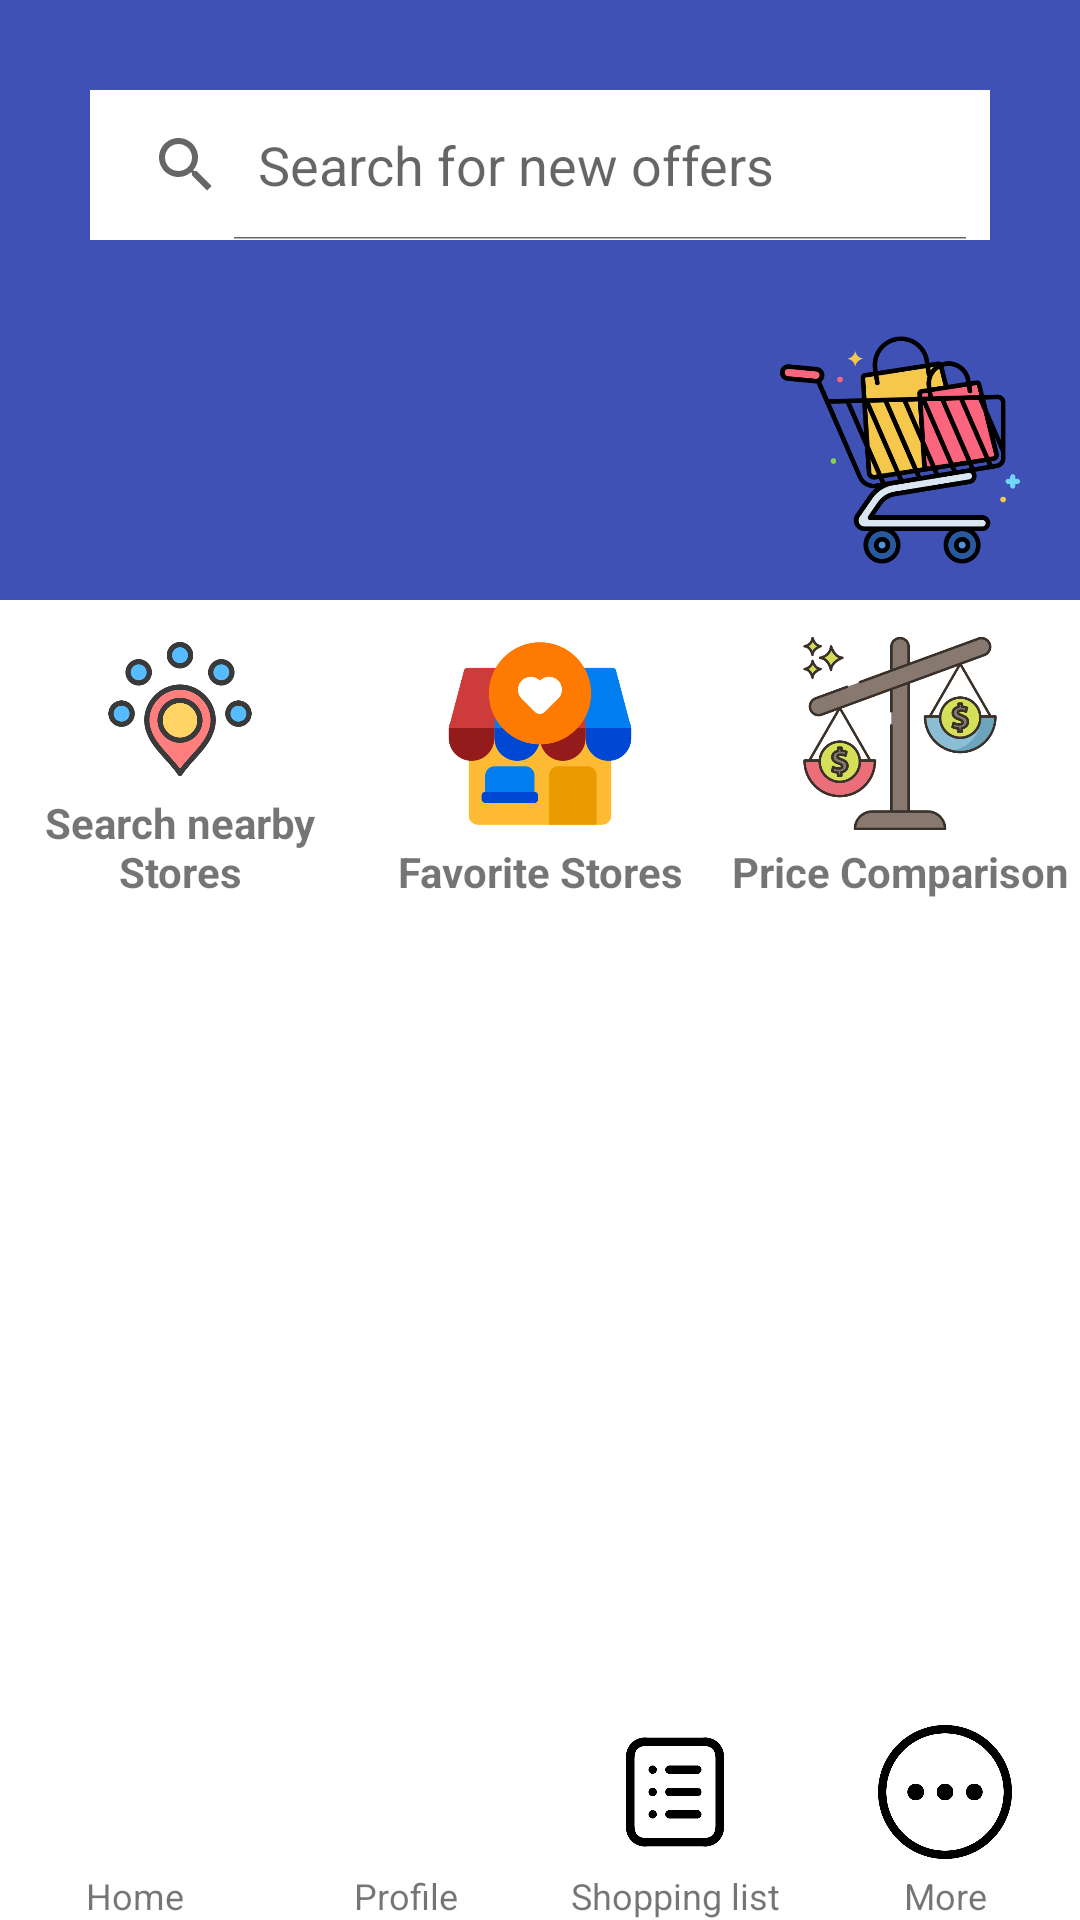

Icon bounding boxes for this 1080x1920 phone screenshot, format [x1=x1, y1=y1, x2=x2, y2=y2]:
shopping: [x1=780, y1=336, x2=1020, y2=564]
